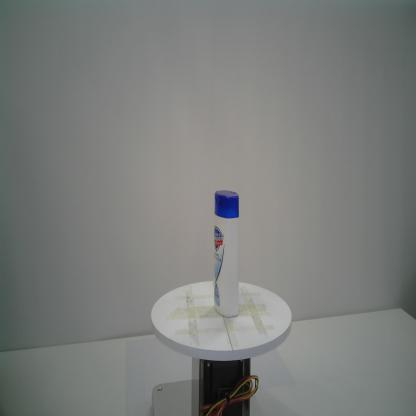Personal Hygiene: (213, 190, 240, 318)
